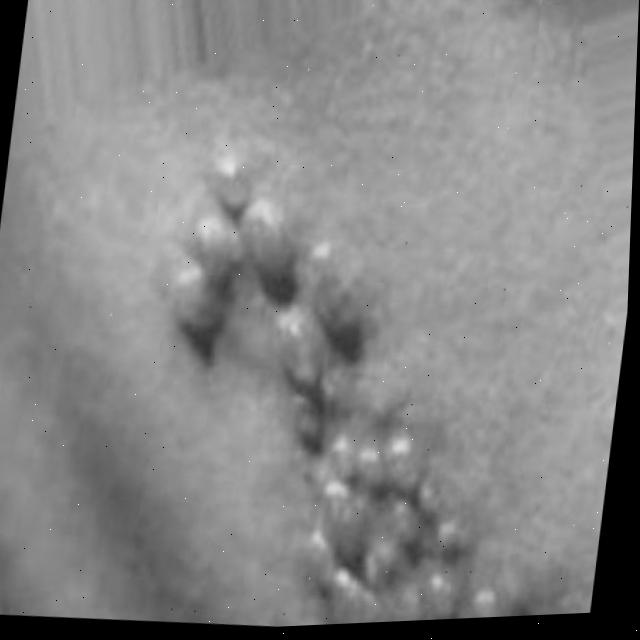Shingles: (130, 160, 545, 633)
